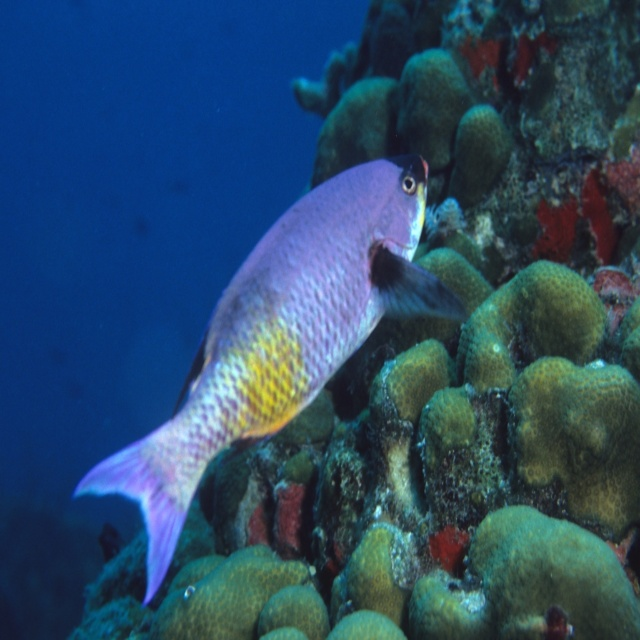Fish: (77, 155, 472, 605)
